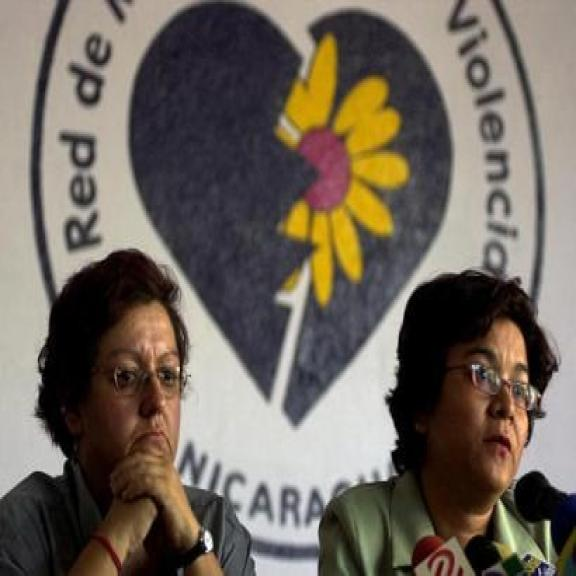face: (40, 295, 182, 484), (410, 323, 529, 506)
